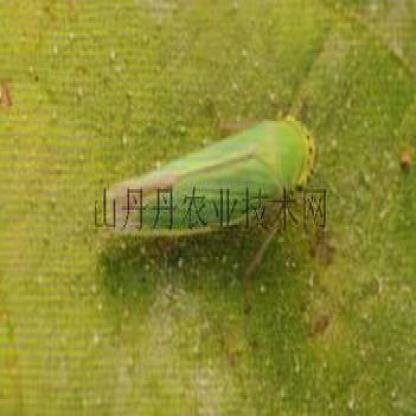Green-Leafhopper: (102, 115, 318, 272)
